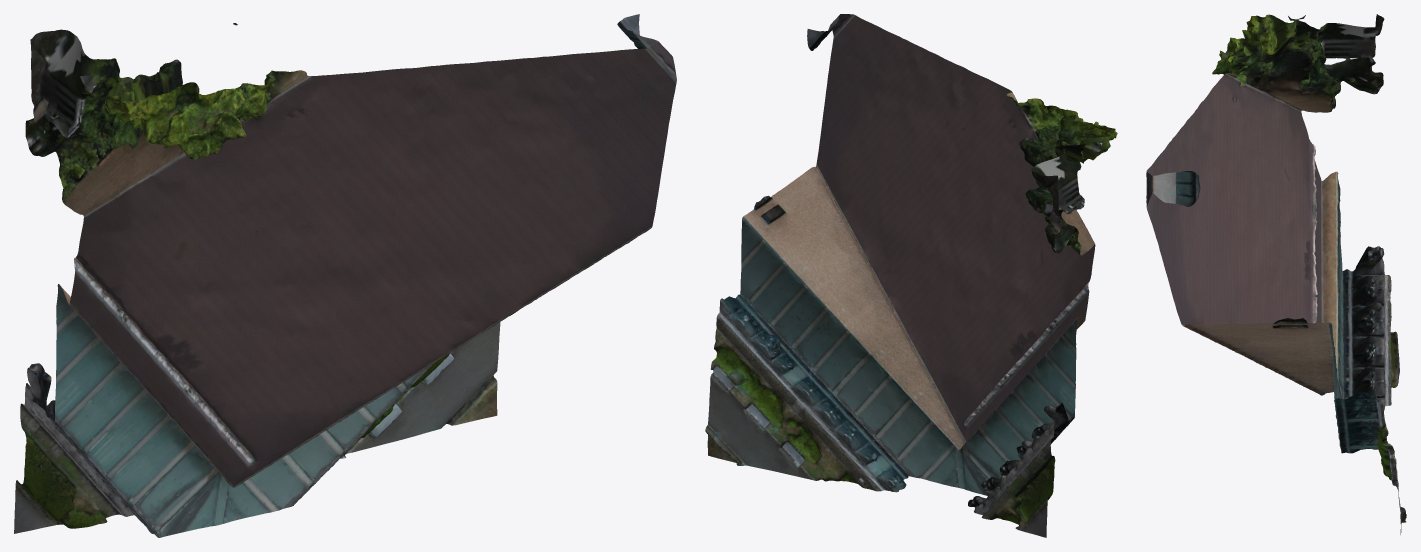
File: Tile_+015_+011.fbx
3 views of the same model, side by side, from view 1: azimuth 30°, elevation 25°; view 2: azimuth 150°, elevation 25°; view 3: azimuth 270°, elevation 25° (orthographic). The views are drawn at different scales.
Visible parts, largest first — view 1: DefaultName; view 2: DefaultName; view 3: DefaultName.
Boxes of the visible parts, x1,y1,x2,y2 form: DefaultName: (14,14,676,537); DefaultName: (705,14,1117,537); DefaultName: (1146,14,1406,534).
Size of the model in its own units: 22.54 by 22.54 by 14.89.
